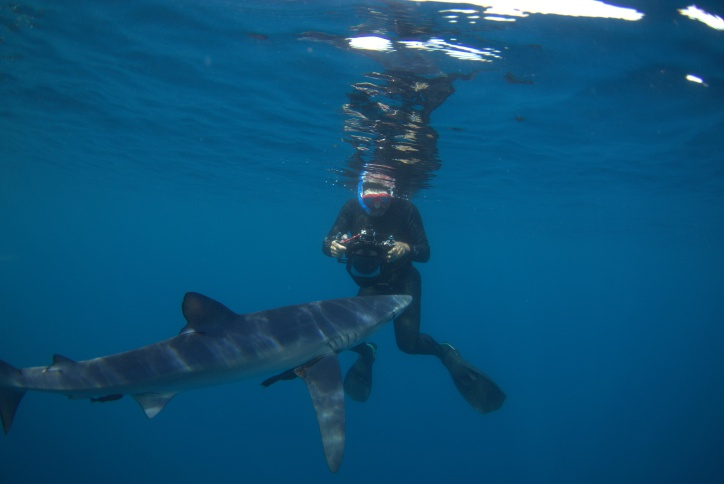Azul: (1, 266, 433, 483)
